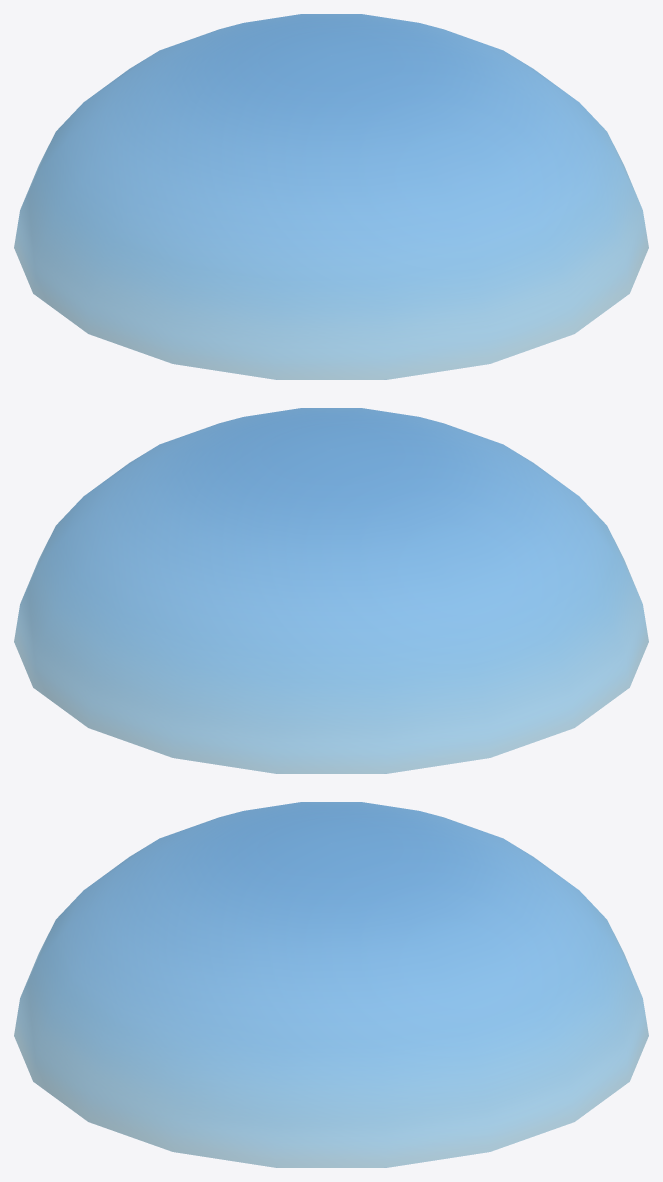
The model's file is hall.glb.
3 views of the same model, one above another, from view 1: azimuth 30°, elevation 25°; view 2: azimuth 150°, elevation 25°; view 3: azimuth 270°, elevation 25° (orthographic).
Parts seen in each view (by area): view 1: sky; view 2: sky; view 3: sky.
Boxes of the visible parts, x1,y1,x2,y2 form: sky: (14,14,648,379); sky: (14,408,648,773); sky: (14,802,648,1167).
Bounding box in the file's own units: 197 × 67 × 200.
Materials: 14 (2 with a texture image).
